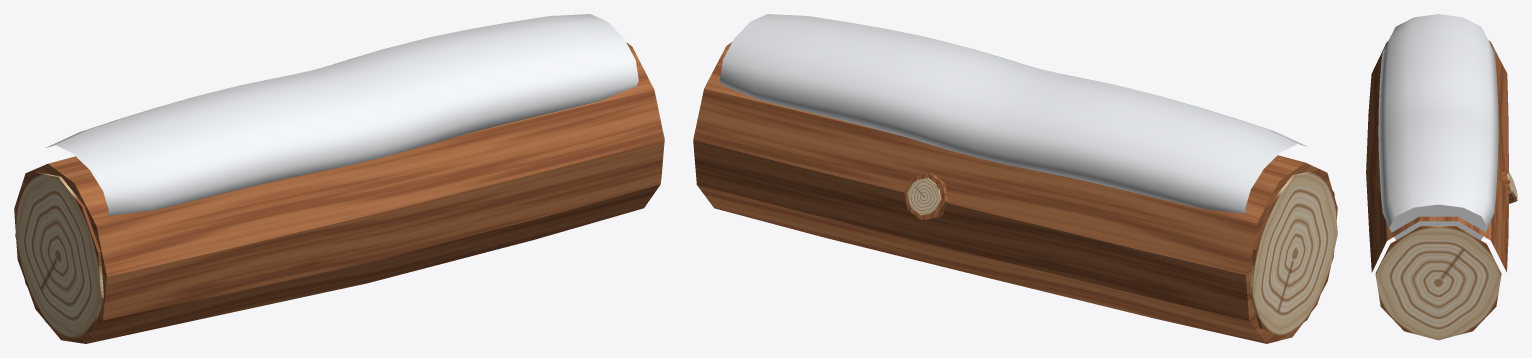
Rendered from SnowyLog.glb.
3 views of the same model, side by side, from view 1: azimuth 30°, elevation 25°; view 2: azimuth 150°, elevation 25°; view 3: azimuth 270°, elevation 25° (orthographic). The views are drawn at different scales.
Parts seen in each view (by area): view 1: SnowyLog; view 2: SnowyLog; view 3: SnowyLog.
Boxes of the visible parts, left/top/right/bottom form: SnowyLog: left=14, top=14, right=664, bottom=343; SnowyLog: left=693, top=14, right=1337, bottom=343; SnowyLog: left=1366, top=14, right=1517, bottom=340.
Size of the model in its own units: 9.09 by 3.13 by 2.9.
1 material, 1 textured.
